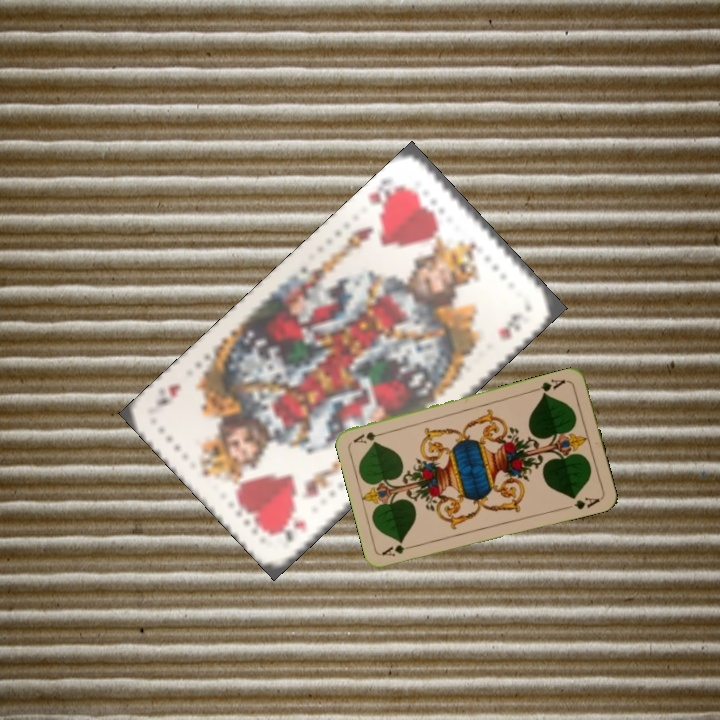GA: (531, 375, 571, 398), (379, 540, 419, 559)
HK: (271, 517, 309, 552), (363, 184, 391, 218)
